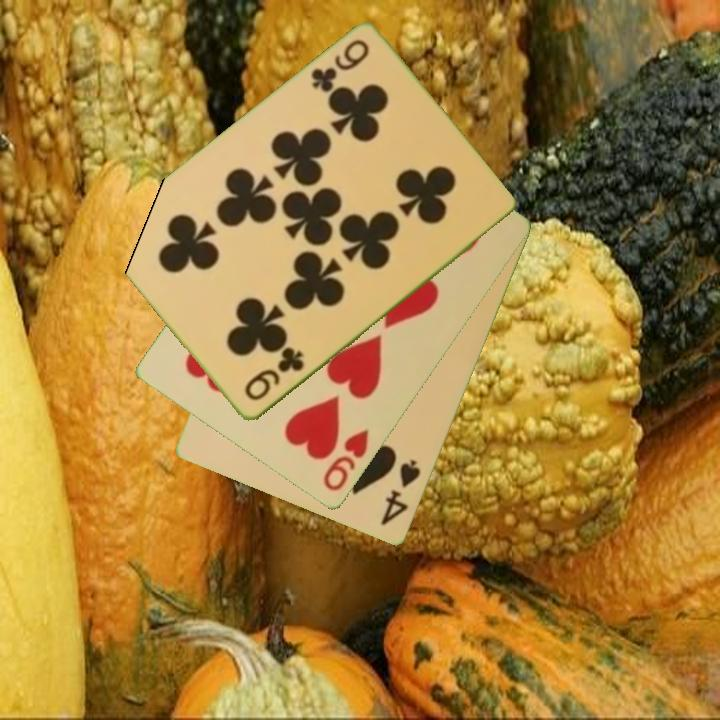4s: (377, 456, 424, 529)
9c: (241, 345, 307, 405), (307, 36, 372, 96)
9h: (319, 426, 372, 495)
